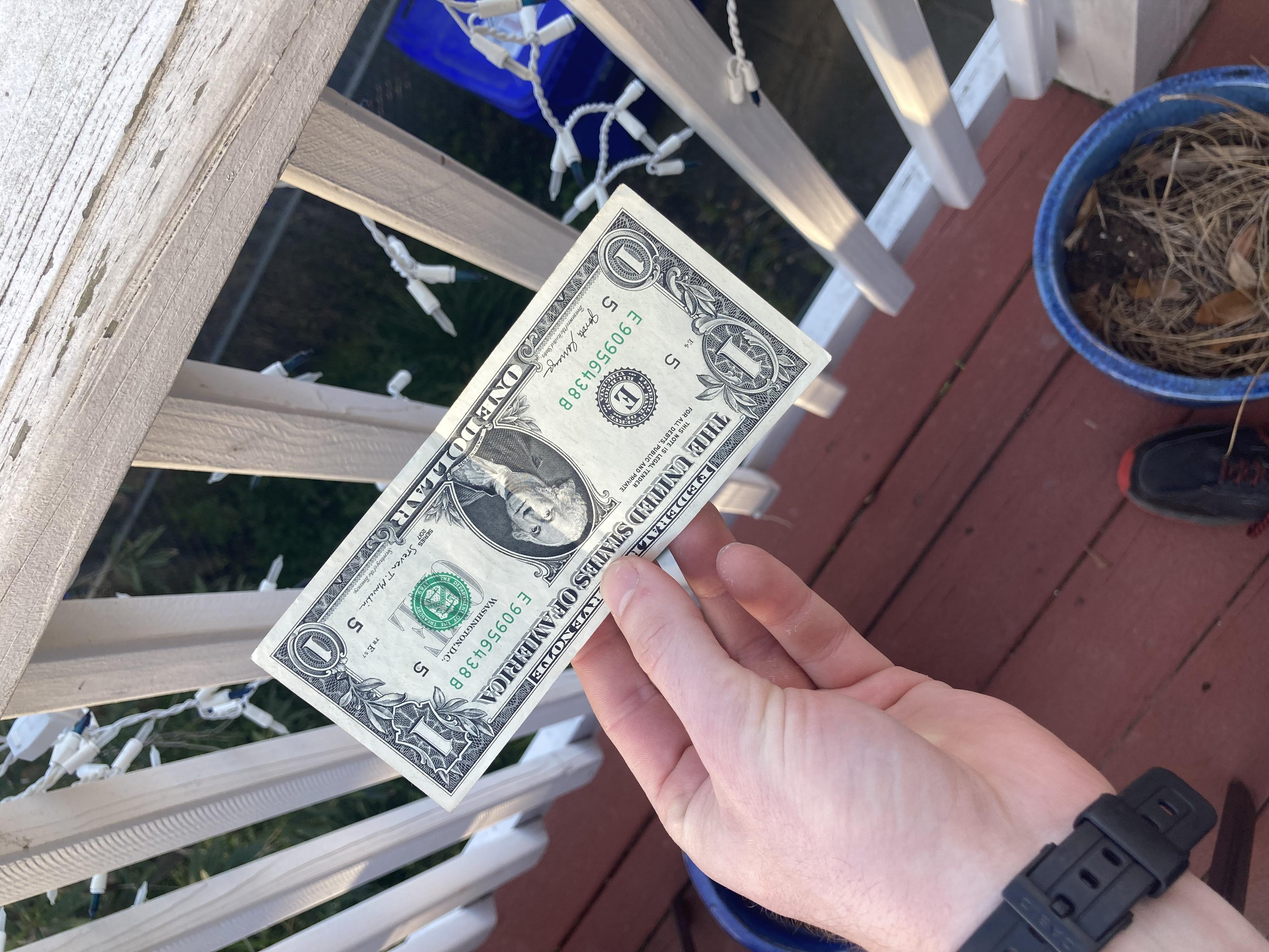one-front: (181, 189, 1027, 625)
